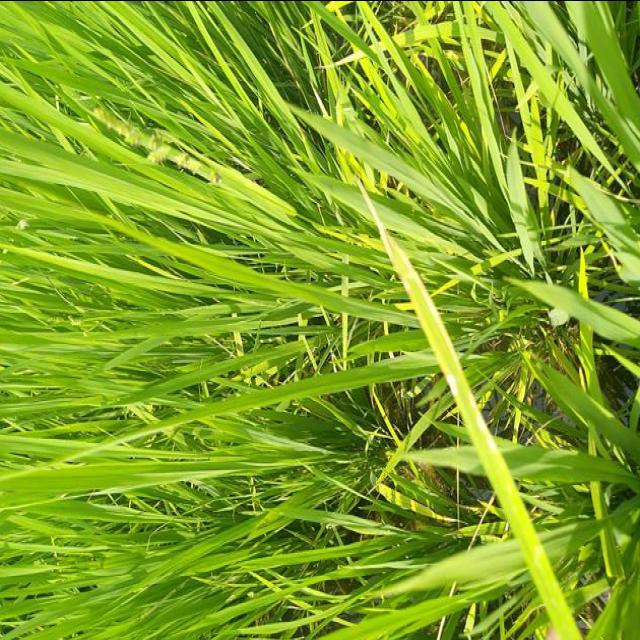Leaf Blight: (357, 175, 515, 479)
